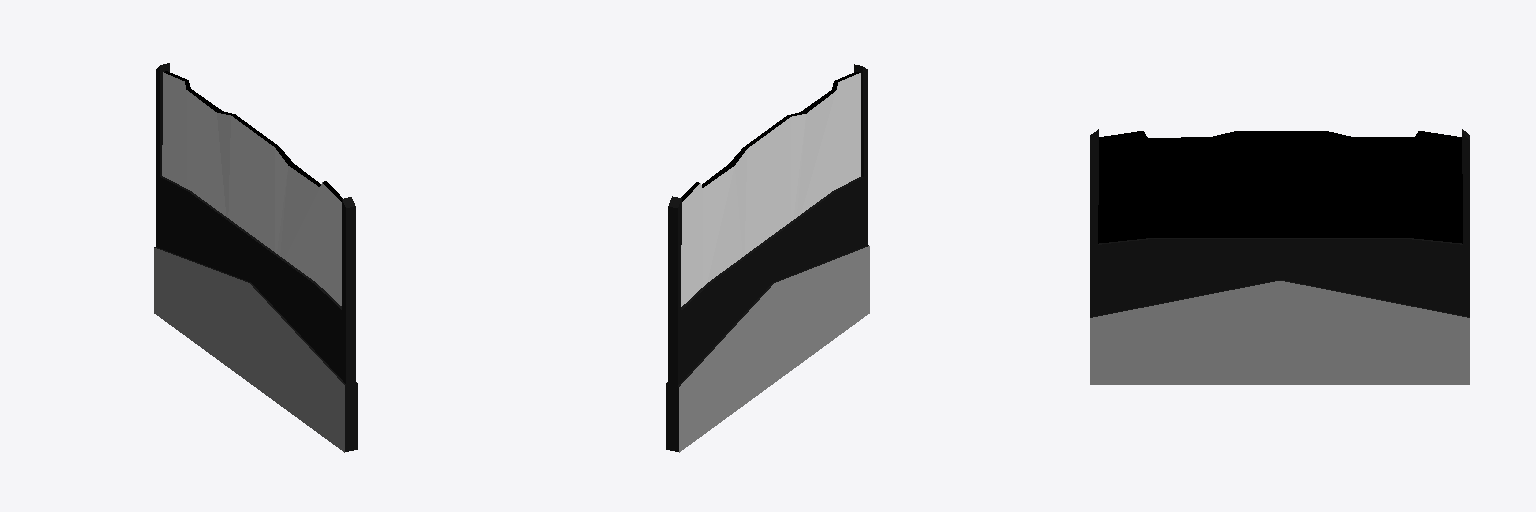
Rendered from CS_OneWayShield.obj.
The picture shows the model from 3 angles: view 1: azimuth 30°, elevation 25°; view 2: azimuth 150°, elevation 25°; view 3: azimuth 270°, elevation 25°; orthographic projection.
Parts seen in each view (by area): view 1: OneWayShield; view 2: OneWayShield; view 3: OneWayShield.
Part boxes in pixels (x1,y1,x2,y2): OneWayShield: (154,63,357,452); OneWayShield: (666,64,869,452); OneWayShield: (1090,129,1469,384).
Size of the model in its own units: 0.1423 by 2.57 by 3.54.